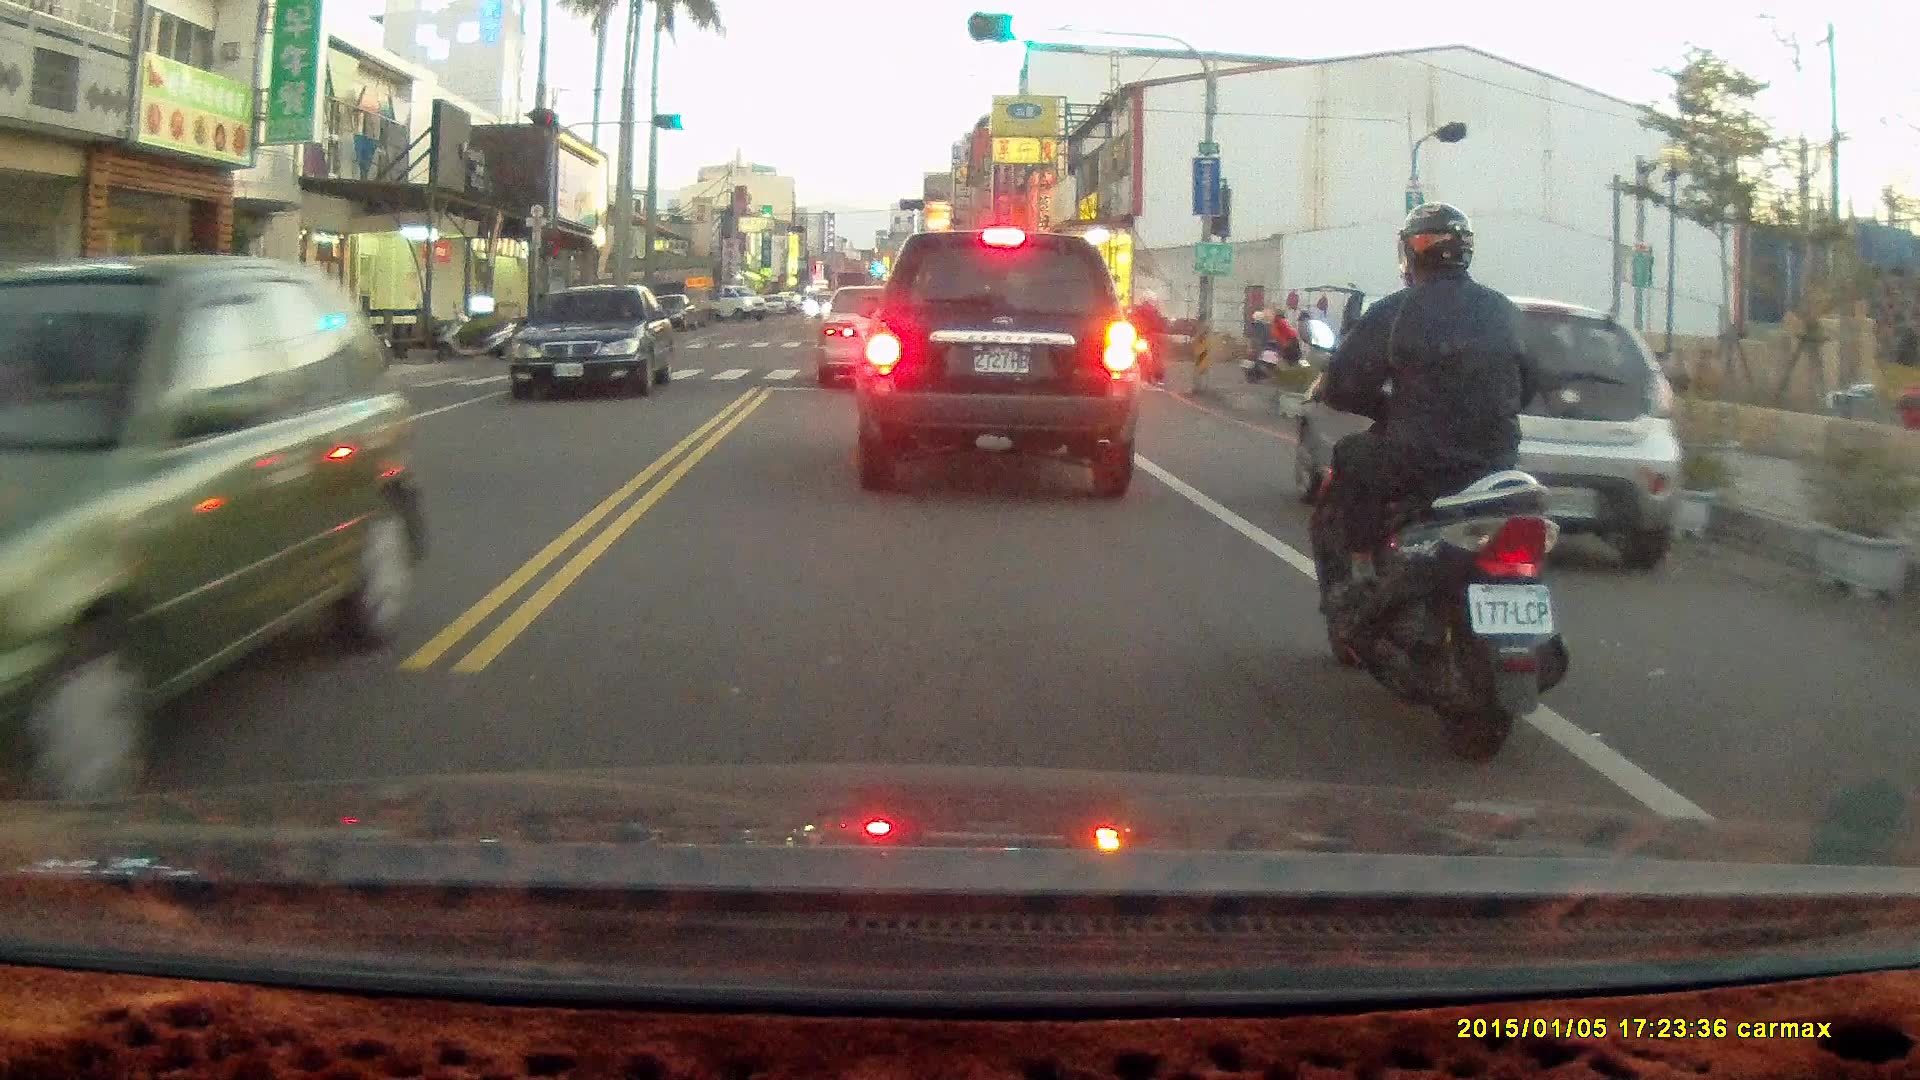rider: (1294, 199, 1569, 761), (1239, 299, 1306, 381), (1120, 286, 1169, 390)
vehicle: (1, 249, 435, 790), (1291, 290, 1687, 570), (857, 224, 1139, 500), (513, 284, 677, 402), (815, 282, 939, 395)
